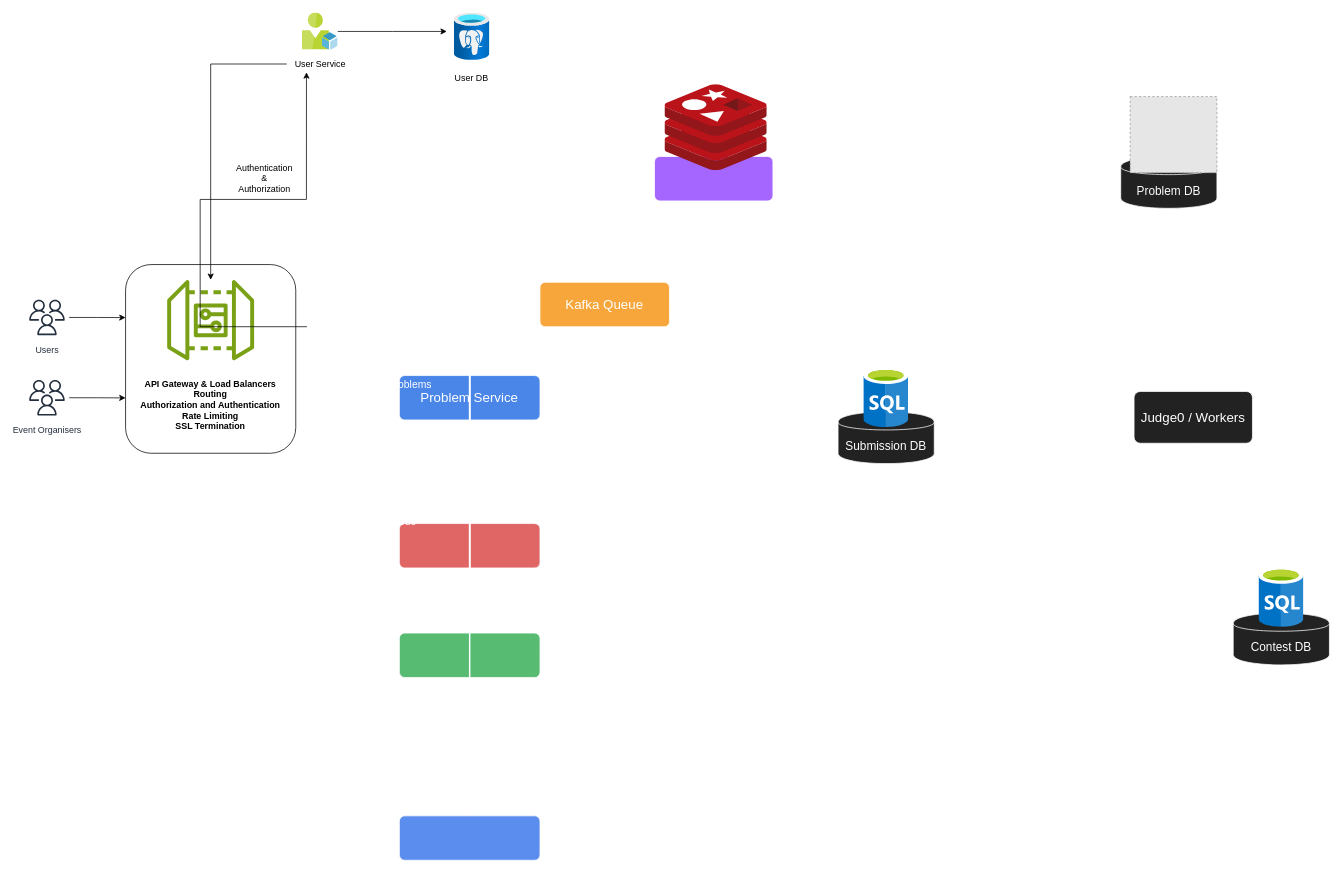
Some shapes in this 1342 by 873 pixel diagram are drawn without their labels. Grey dashed boxes stand in for pictures. The centre of each missing label's shape, as x and y in pixels:
"Contest / Leaderboard" goes at [469,837].
"Execution Service" goes at [469,654].
"Redis Cache" goes at [713,178].
"Submission Service" goes at [469,545].
